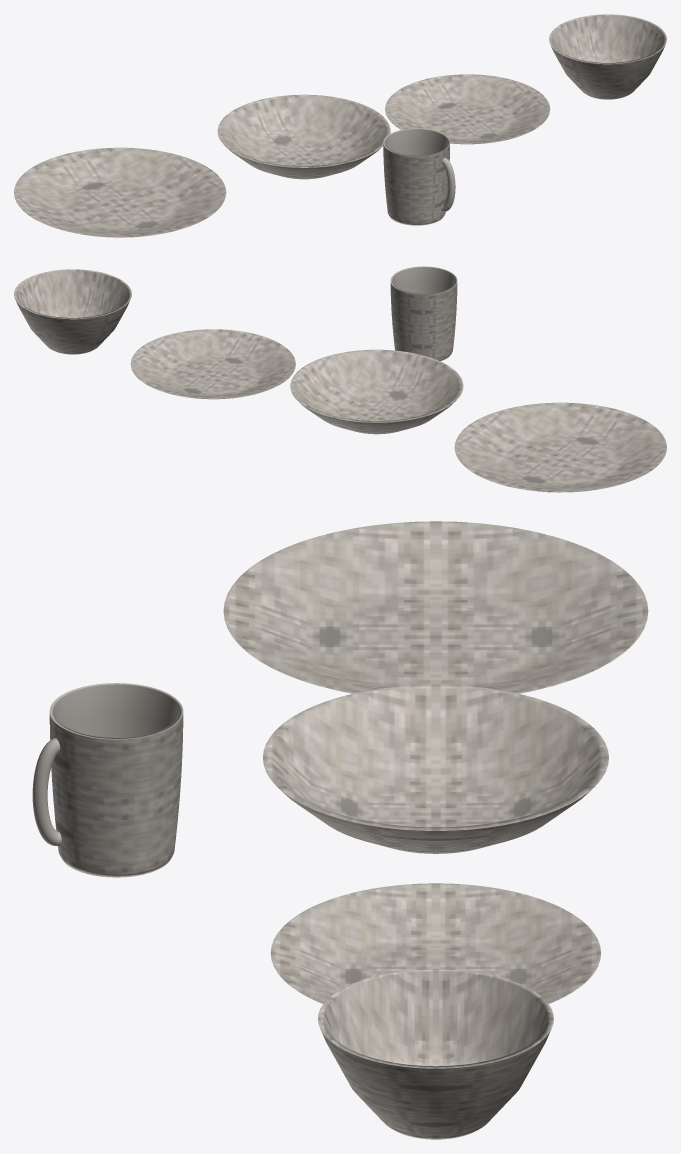
The model's file is GRL-10.glb.
3 views of the same model, one above another, from view 1: azimuth 30°, elevation 25°; view 2: azimuth 150°, elevation 25°; view 3: azimuth 270°, elevation 25° (orthographic). The views are drawn at different scales.
Bounding box in the file's own units: 0.926 × 0.1 × 0.3913.
11 materials, 9 textured.
